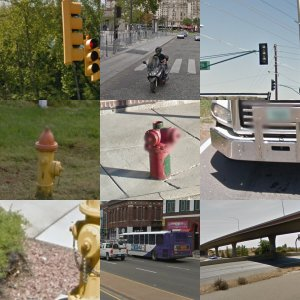汽車: (224, 230, 300, 276), (54, 175, 84, 194)
煙囪: (245, 23, 282, 73)
紅綠燈: (235, 98, 300, 190)
腳踏車: (7, 22, 84, 77), (99, 212, 161, 264), (129, 8, 160, 55)
